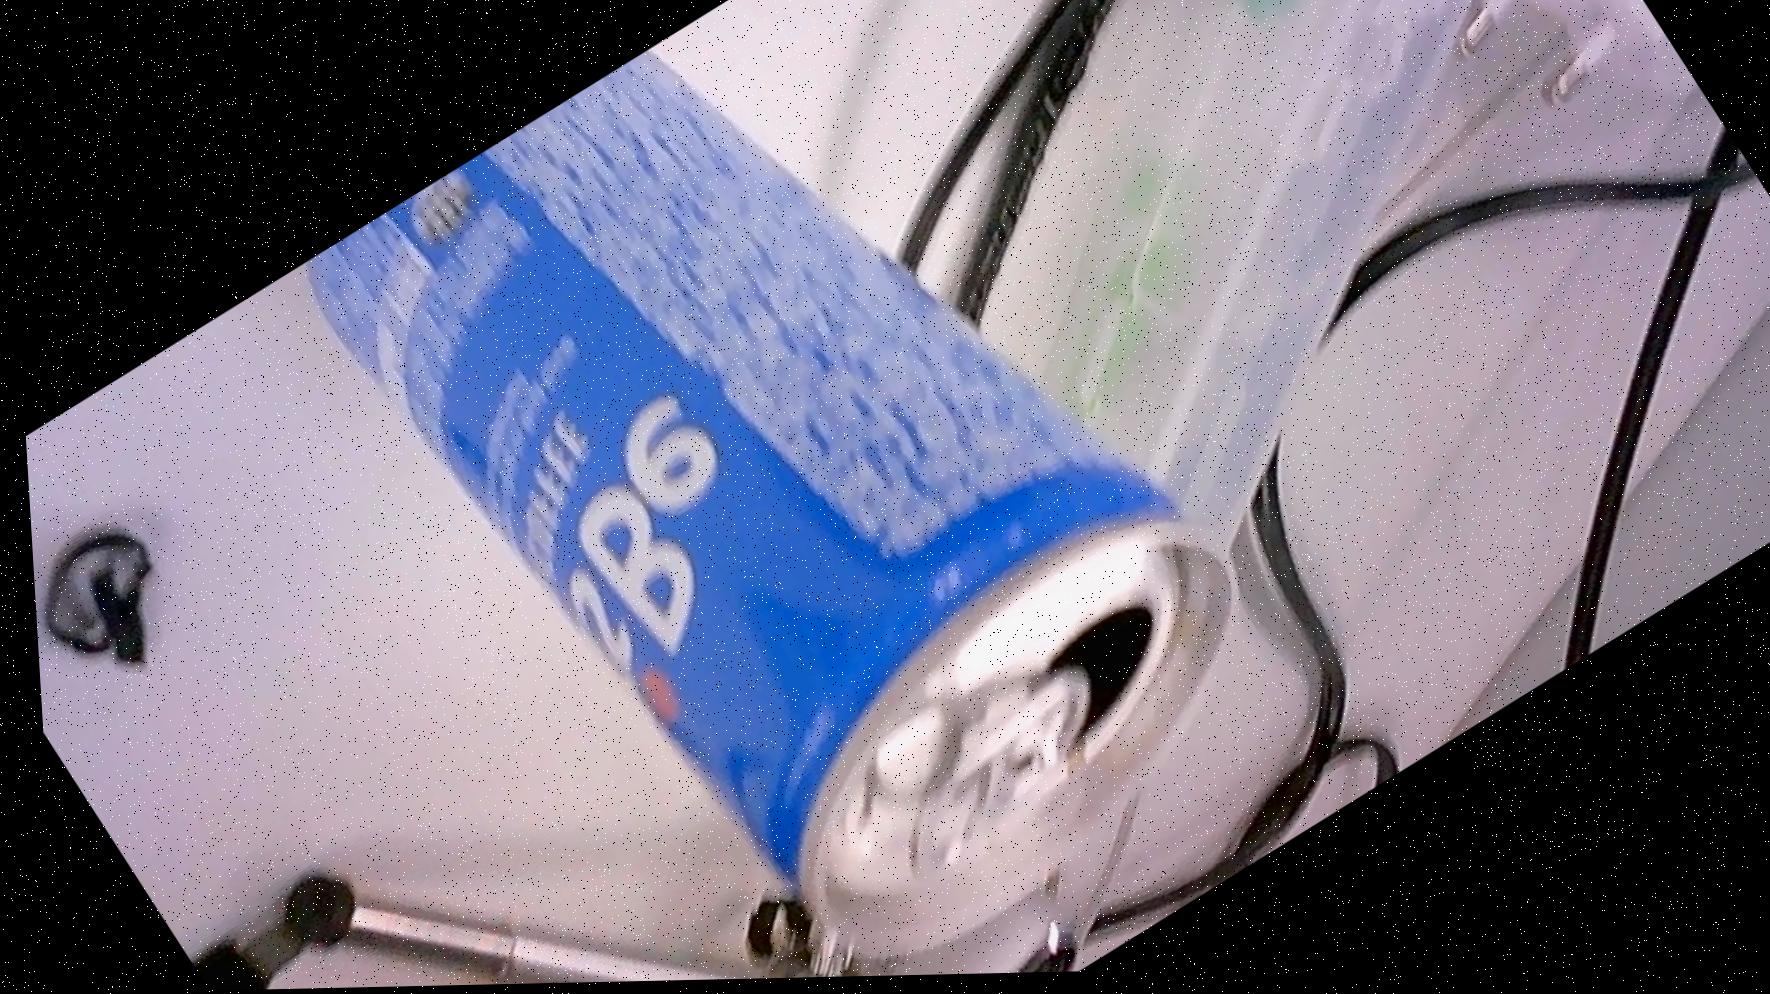letsbe: (271, 0, 1327, 989)
